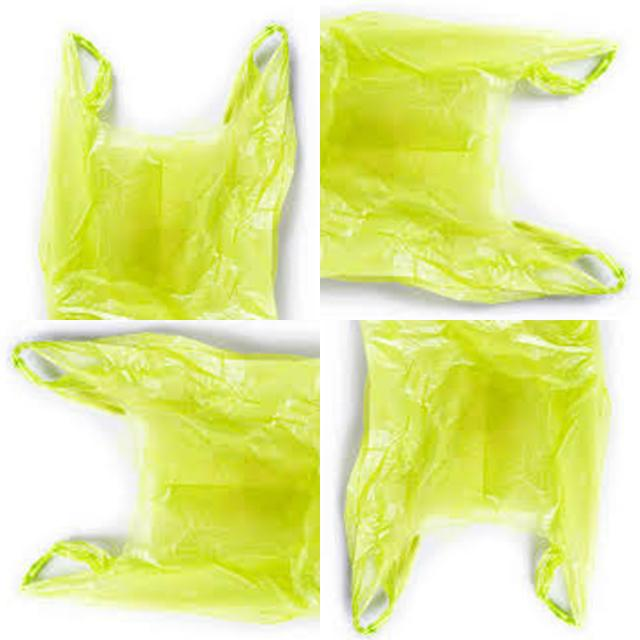Single-layer Plastic: (12, 334, 319, 622), (321, 12, 625, 302), (345, 321, 610, 632), (40, 25, 296, 319)
